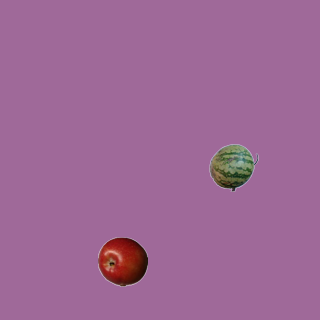Apple Braeburn: (97, 236, 147, 286)
Watermelon: (208, 142, 258, 192)
